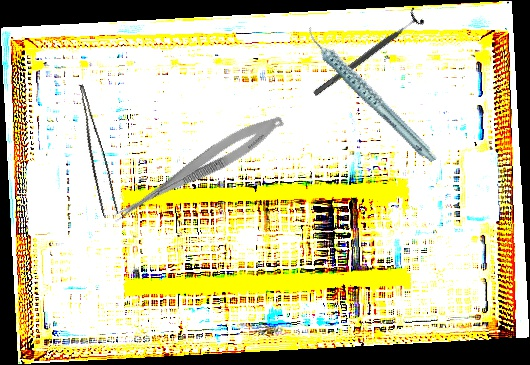Fixation Ring: (307, 6, 427, 103)
Handpiece: (304, 4, 440, 184)
Micro Scissor: (107, 106, 289, 233)
Tissue Forceps: (64, 84, 123, 218)
